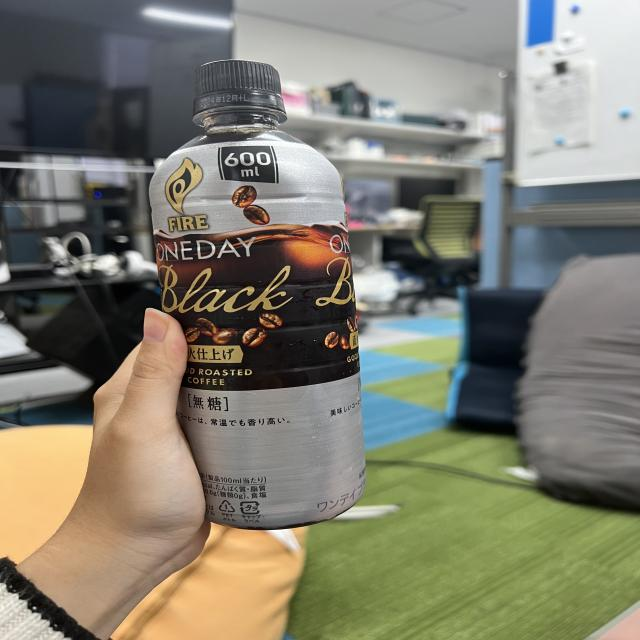coffee-black: (150, 55, 352, 535)
